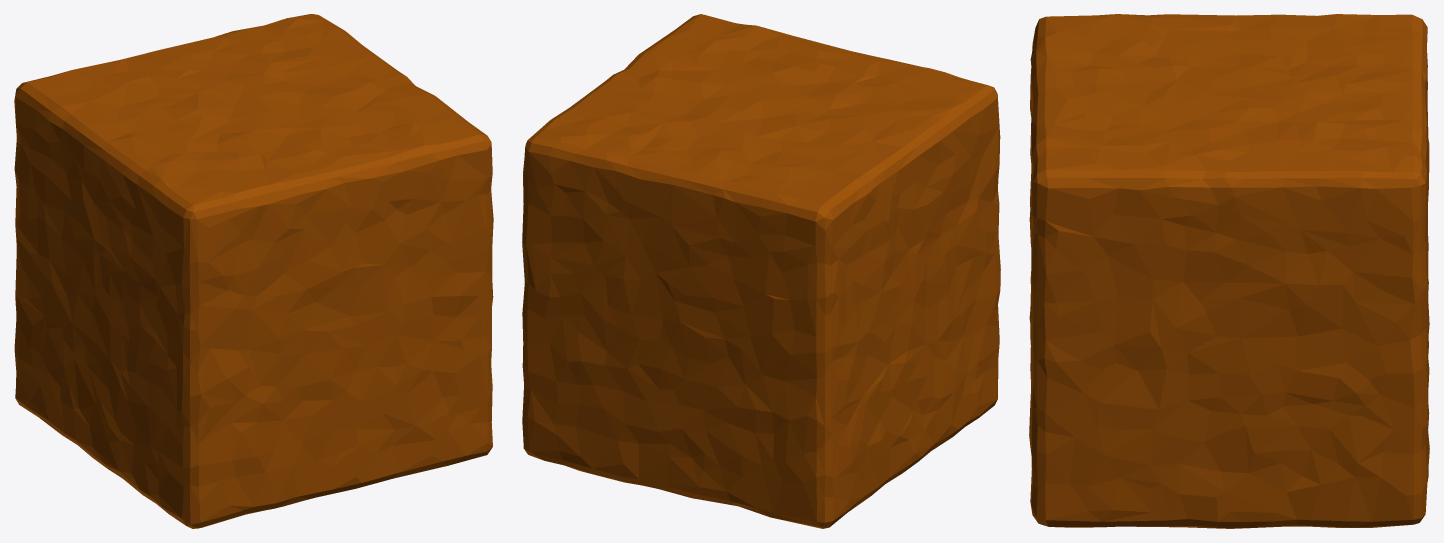
File: Present_2.fbx
3 views of the same model, side by side, from view 1: azimuth 30°, elevation 25°; view 2: azimuth 150°, elevation 25°; view 3: azimuth 270°, elevation 25° (orthographic). The views are drawn at different scales.
Visible parts, largest first — view 1: Cube.002; view 2: Cube.002; view 3: Cube.002.
Part boxes in pixels (bbox=[...]): Cube.002: bbox=[14, 14, 493, 528]; Cube.002: bbox=[522, 14, 1000, 528]; Cube.002: bbox=[1029, 14, 1429, 528].
Size of the model in its own units: 65.59 by 65.45 by 65.62.
